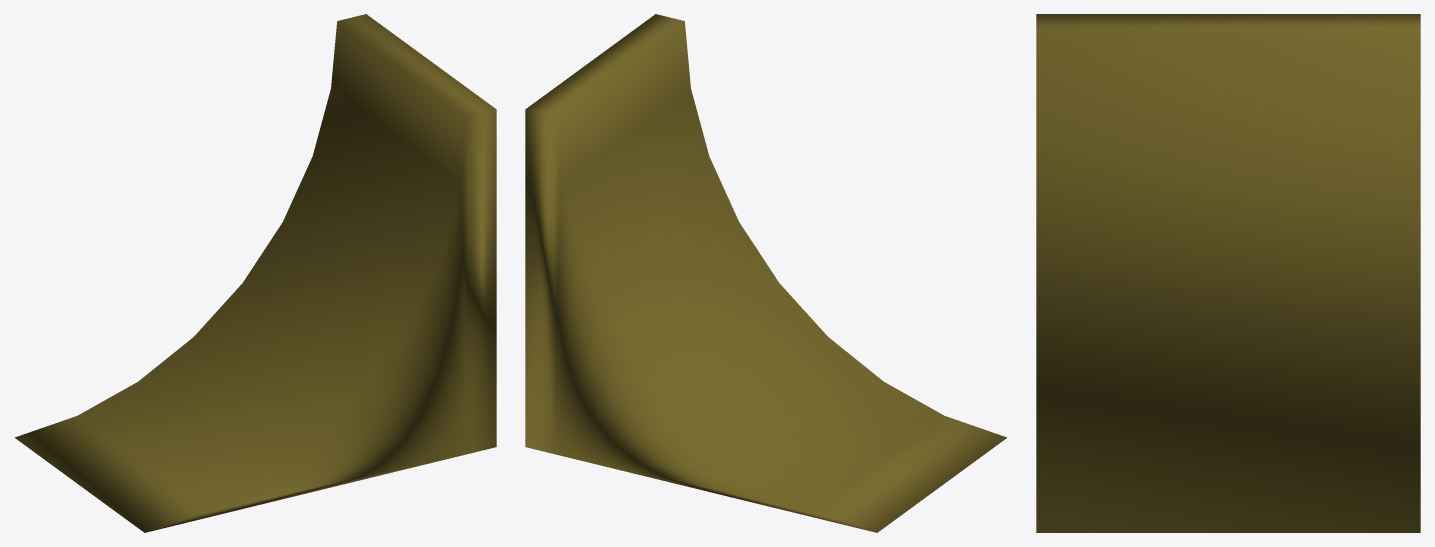
3 renders of one model, left to right at view 1: azimuth 30°, elevation 25°; view 2: azimuth 150°, elevation 25°; view 3: azimuth 270°, elevation 25°, orthographic. The views are drawn at different scales.
Visible parts, largest first — view 1: rampie; view 2: rampie; view 3: rampie.
Boxes of the visible parts, x1,y1,x2,y2 form: rampie: (14, 14, 496, 532); rampie: (525, 14, 1007, 532); rampie: (1036, 14, 1420, 532).
Bounding box in the file's own units: 1.09 × 1 × 0.6991.
